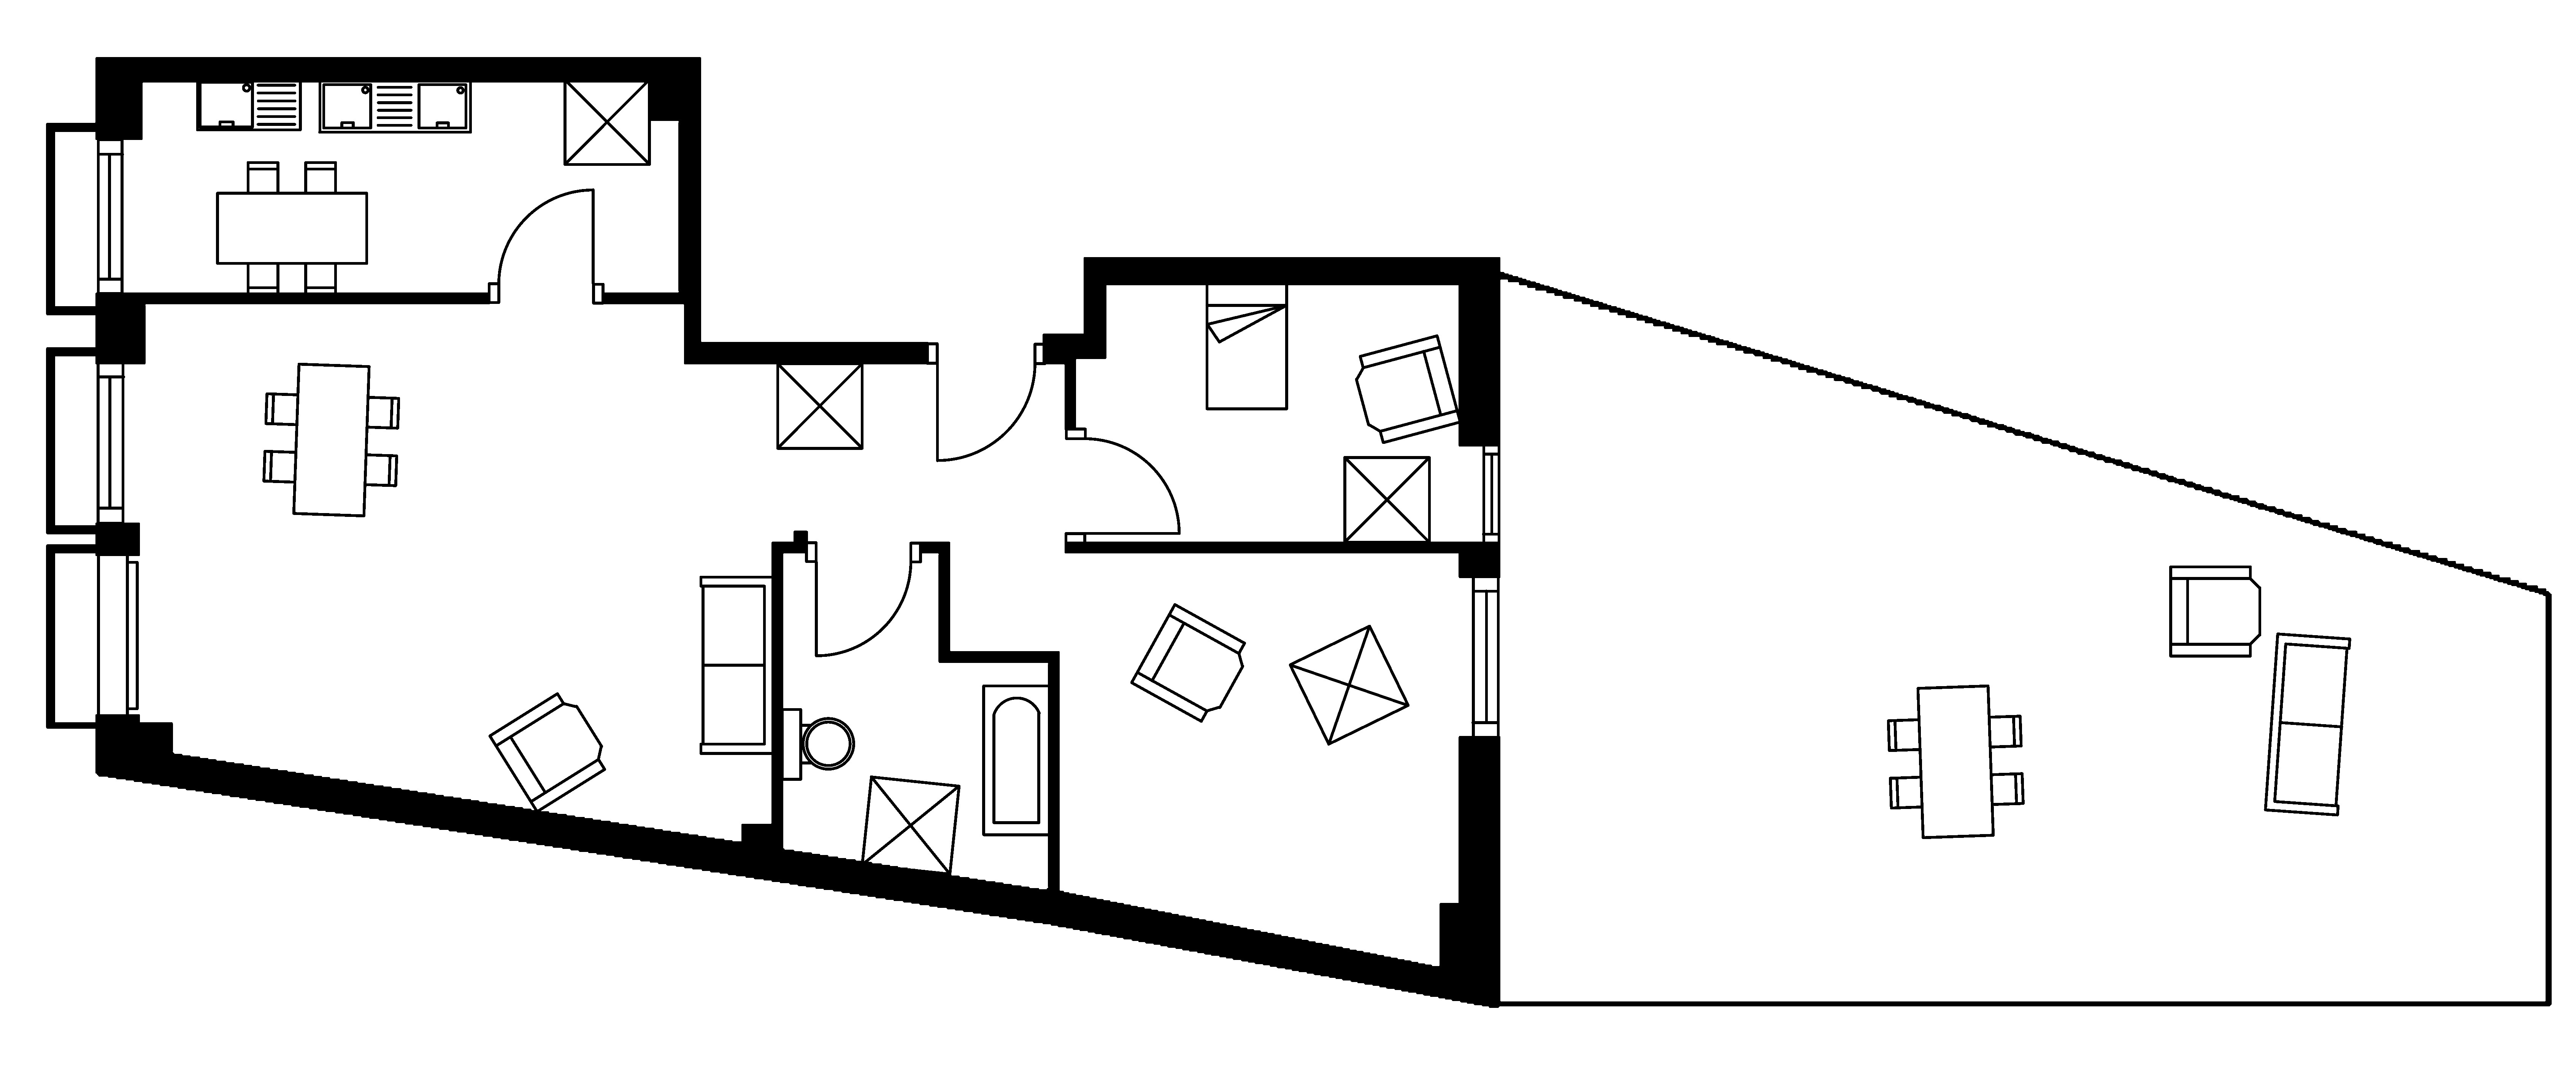armchair: (488, 691, 606, 812), (1129, 602, 1245, 724), (1354, 334, 1462, 444), (2169, 564, 2262, 658)
bed: (1204, 281, 1288, 411)
coffee_table: (1288, 623, 1410, 747), (861, 775, 961, 877), (562, 77, 651, 166), (775, 362, 864, 451), (1342, 456, 1431, 544)
dining_table: (261, 362, 401, 518), (1886, 684, 2024, 839), (215, 160, 368, 296)
large_sink: (780, 707, 854, 781)
large_sofa: (2264, 631, 2351, 817), (698, 576, 774, 755)
sink: (195, 77, 302, 132)
tub: (981, 684, 1051, 837)
twin_sink: (317, 77, 471, 133)
